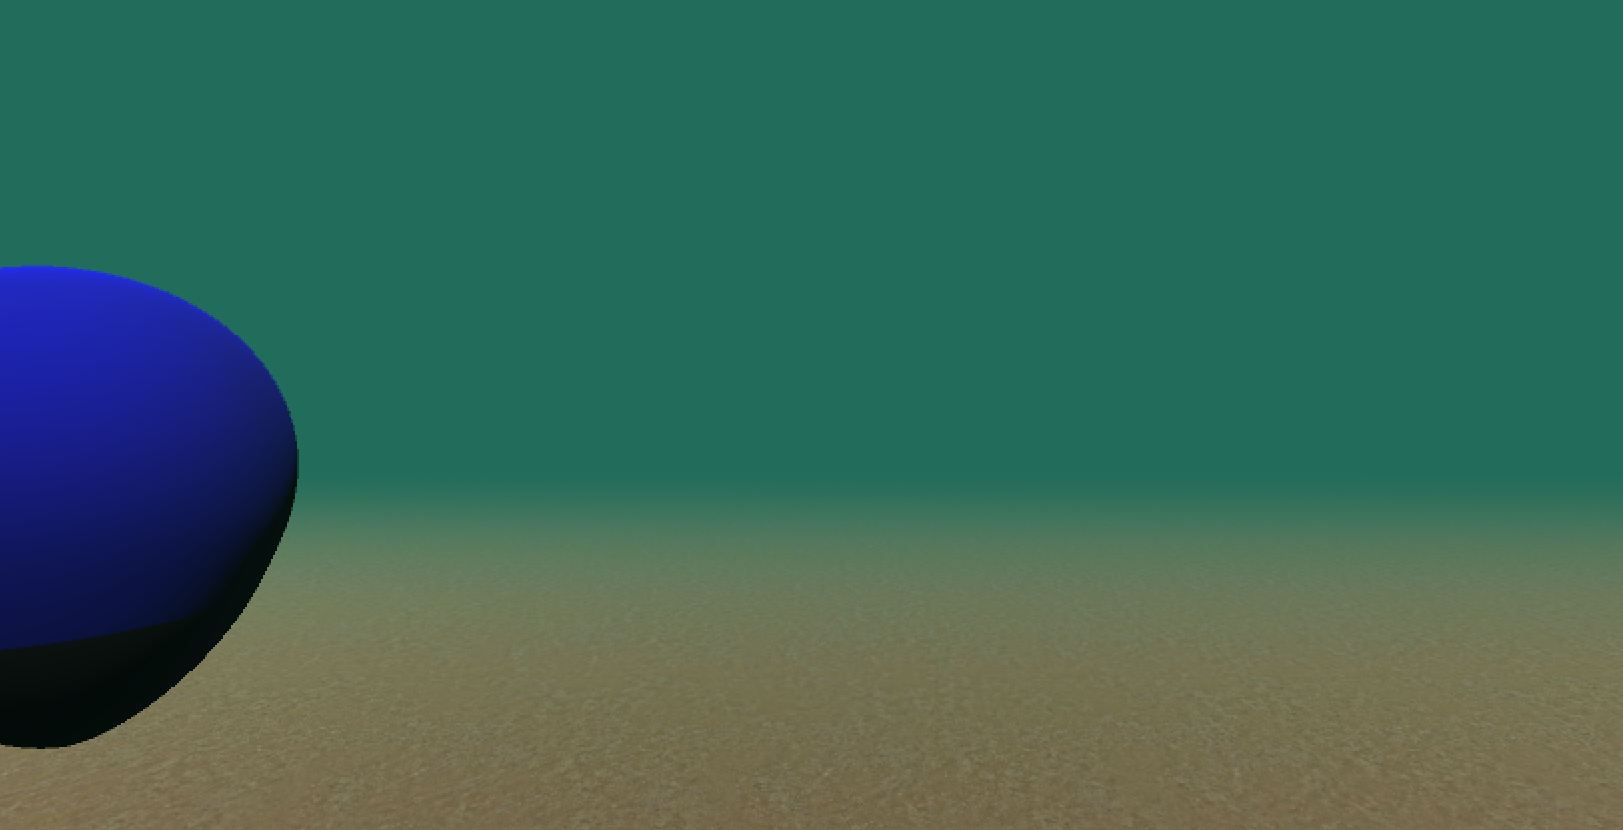blue buoy: (1, 261, 299, 750)
